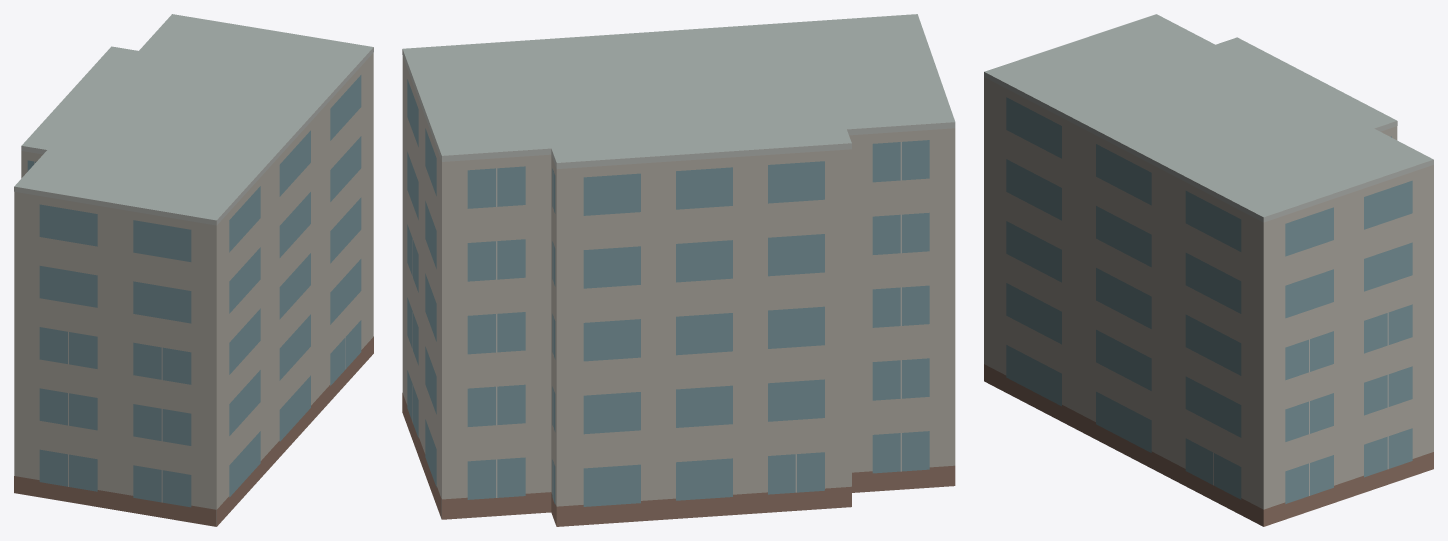
File: survey-upis-32738102.glb
The picture shows the model from 3 angles, left to right: view 1: azimuth 30°, elevation 25°; view 2: azimuth 150°, elevation 25°; view 3: azimuth 270°, elevation 25°; orthographic projection. The views are drawn at different scales.
Visible parts, largest first — view 1: survey-upis-32738102.tmp; view 2: survey-upis-32738102.tmp; view 3: survey-upis-32738102.tmp.
Part boxes in pixels (x1,y1,x2,y2): survey-upis-32738102.tmp: (14,14,373,526); survey-upis-32738102.tmp: (402,14,955,526); survey-upis-32738102.tmp: (984,14,1433,526).
Size of the model in its own units: 20.44 by 14.5 by 19.1.
